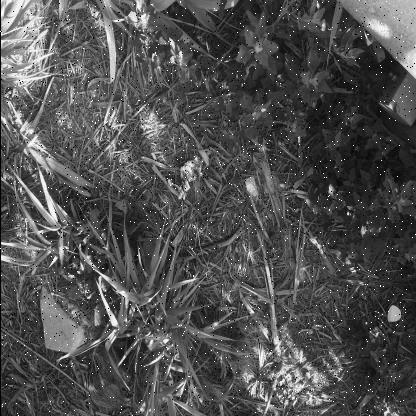paper: (244, 176, 258, 198)
plastic: (166, 155, 202, 202)
